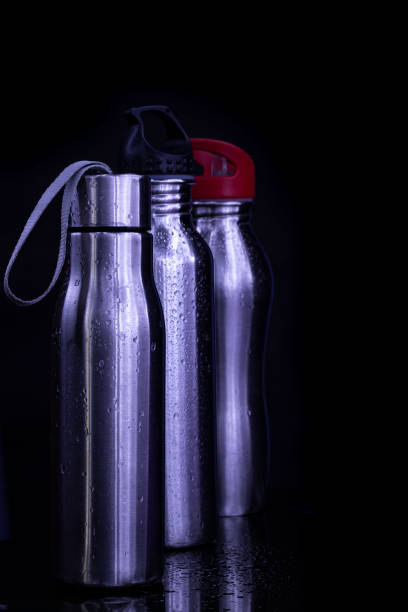bottle: (49, 103, 355, 574)
